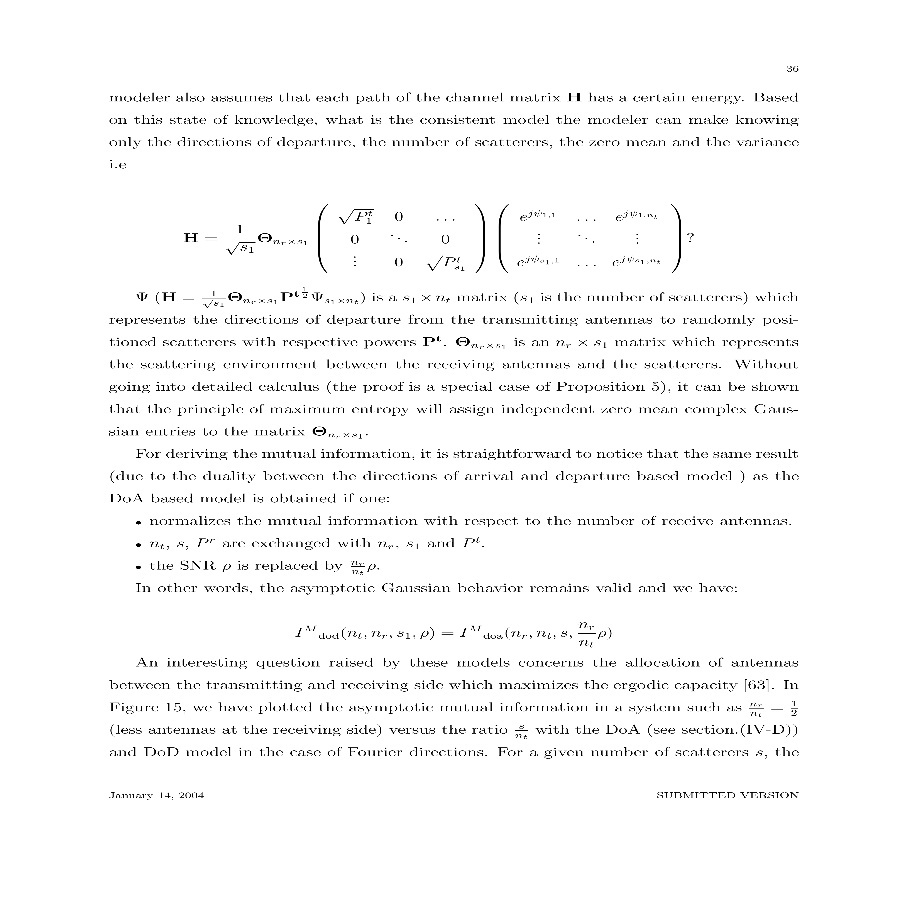eq: (180, 201, 687, 281), (295, 620, 617, 651)
